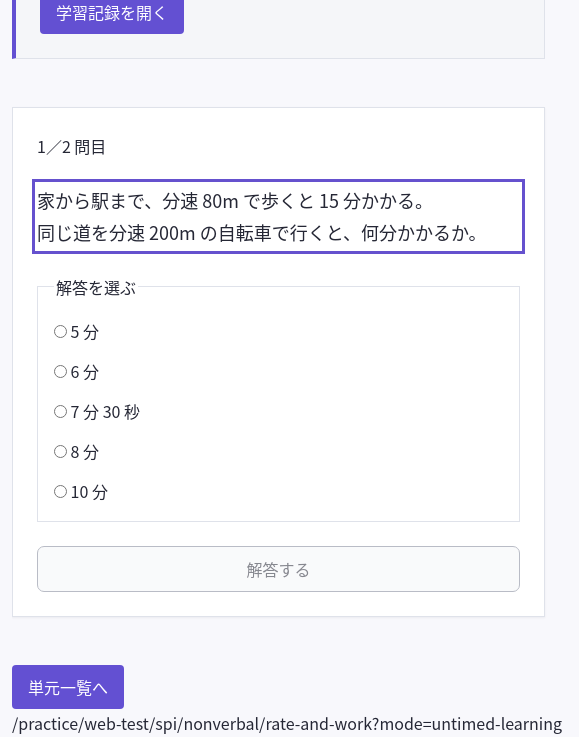
Test: Web Test discovery and runner-entry routes › falls back to the Free sample for a signed-in non-member and saves against the sample release
(page scrolled)
Expected: the heading "家から駅まで、分速 80m で歩くと 15 分かかる。同じ道を分速 200m の自転車で行くと、何分かかるか。" is shown, [37,184,520,249]
Click the radio button labelled "6 分": (60, 371) [54,365,67,378]
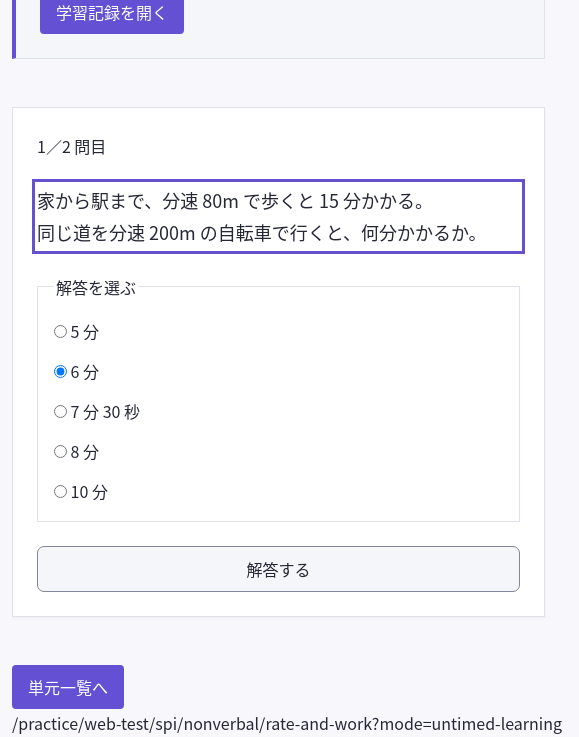
Click the button "解答する": (278, 569) [37,546,520,592]
(page scrolled)
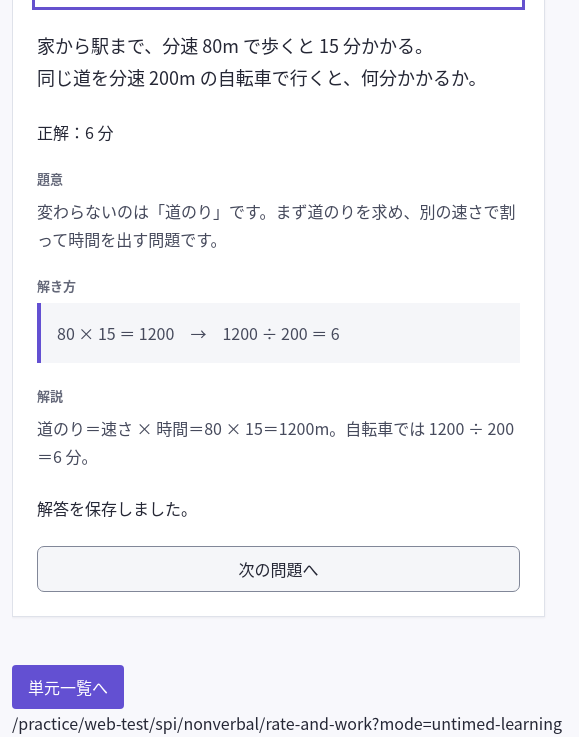
Now the text "解答を保存しました。" is shown, box [37,496,197,520]
